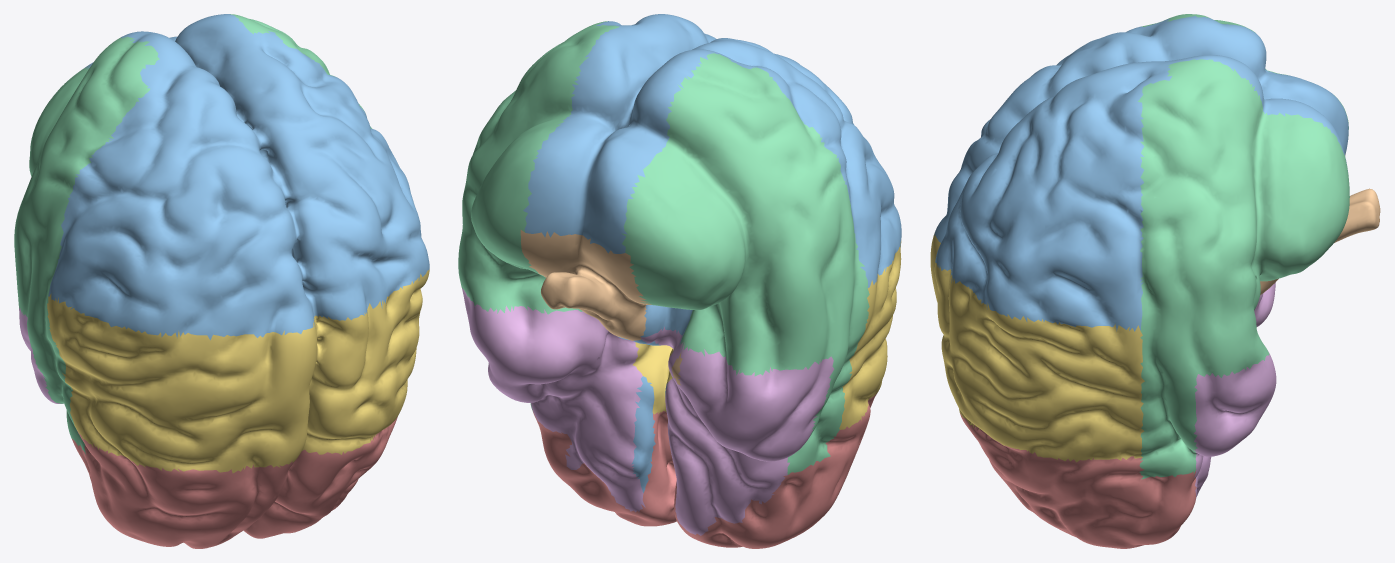
File: brain_separated.glb
3 renders of one model, left to right at view 1: azimuth 30°, elevation 25°; view 2: azimuth 150°, elevation 25°; view 3: azimuth 270°, elevation 25°, orthographic. The views are drawn at different scales.
Visible parts, largest first — view 1: lobulo_frontal_izq, lobulo_frontal_der, lobulo_parietal_izq, lobulo_temporal_izq, lobulo_parietal_der, lobulo_occipital_izq, lobulo_occipital_der, lobulo_temporal_der, cerebelo_izq; view 2: lobulo_temporal_izq, cerebelo_izq, lobulo_frontal_izq, cerebelo_der, lobulo_temporal_der, lobulo_frontal_der, tronco_encefalico, lobulo_occipital_izq, lobulo_occipital_der, lobulo_parietal_izq, lobulo_parietal_der; view 3: lobulo_temporal_der, lobulo_frontal_der, lobulo_parietal_der, lobulo_occipital_der, lobulo_frontal_izq, cerebelo_der, tronco_encefalico.
Boxes of the visible parts, x1,y1,x2,y2 form: lobulo_frontal_izq: [48, 31, 314, 340]; lobulo_frontal_der: [169, 14, 429, 320]; lobulo_parietal_izq: [47, 293, 316, 473]; lobulo_temporal_izq: [14, 36, 159, 454]; lobulo_parietal_der: [302, 269, 429, 454]; lobulo_occipital_izq: [72, 431, 295, 548]; lobulo_occipital_der: [243, 417, 397, 538]; lobulo_temporal_der: [230, 14, 372, 128]; cerebelo_izq: [19, 308, 63, 403]; lobulo_temporal_izq: [621, 53, 869, 474]; cerebelo_izq: [640, 326, 834, 535]; lobulo_frontal_izq: [583, 38, 901, 396]; cerebelo_der: [461, 287, 645, 512]; lobulo_temporal_der: [458, 21, 619, 411]; lobulo_frontal_der: [523, 14, 716, 492]; tronco_encefalico: [520, 230, 682, 385]; lobulo_occipital_izq: [661, 392, 877, 548]; lobulo_occipital_der: [533, 411, 676, 526]; lobulo_parietal_izq: [656, 241, 901, 429]; lobulo_parietal_der: [632, 342, 672, 414]; lobulo_temporal_der: [1138, 59, 1349, 479]; lobulo_frontal_der: [935, 55, 1348, 331]; lobulo_parietal_der: [934, 262, 1144, 462]; lobulo_occipital_der: [960, 413, 1196, 548]; lobulo_frontal_izq: [934, 16, 1348, 242]; cerebelo_der: [1194, 351, 1276, 499]; tronco_encefalico: [1260, 155, 1380, 295].
Bounding box in the file's own units: 1.51 × 2 × 1.67.
